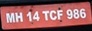character: (5, 12, 15, 23), (32, 10, 40, 21), (15, 12, 23, 22), (41, 10, 49, 20), (49, 10, 57, 20), (66, 8, 73, 19), (72, 8, 79, 19), (79, 8, 86, 18), (57, 9, 63, 20), (26, 11, 32, 21)
